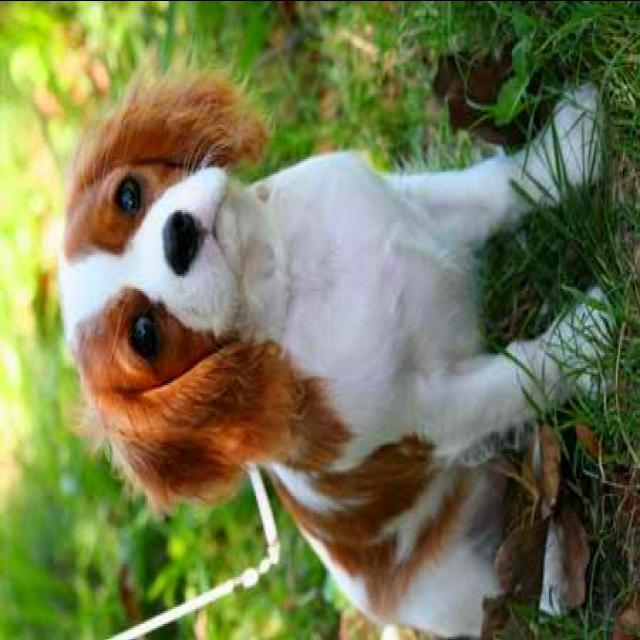blenheim_spaniel: (57, 70, 620, 636)
